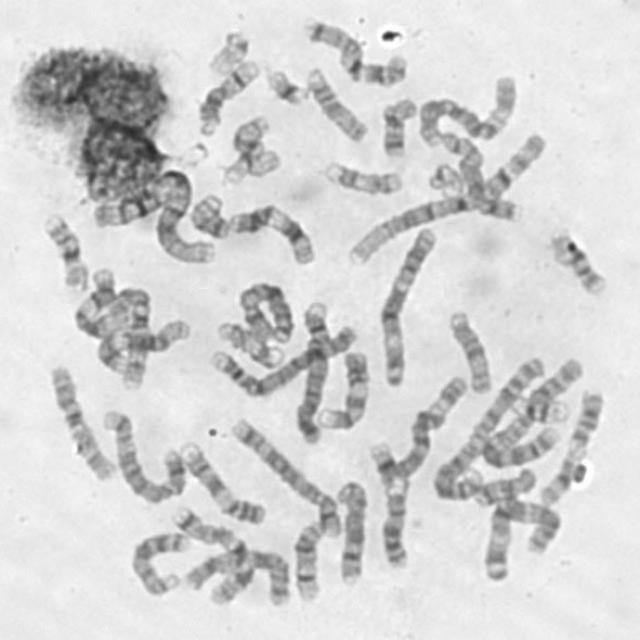A1: (340, 127, 548, 269), (85, 162, 220, 266)
A2: (427, 351, 547, 503), (474, 351, 583, 469)
A3: (374, 219, 440, 389), (477, 491, 564, 584)
B4: (204, 319, 360, 400), (289, 294, 334, 446)
B5: (224, 412, 344, 539), (96, 403, 188, 506)
C10: (43, 358, 118, 483), (102, 282, 164, 393)
C11: (533, 383, 606, 508), (224, 198, 317, 267)
C12: (91, 313, 193, 375), (73, 264, 130, 340)
C6: (382, 370, 470, 484), (412, 69, 518, 150)
C7: (166, 500, 256, 608), (299, 12, 410, 88)
C8: (435, 126, 521, 224), (330, 474, 370, 588)
C9: (174, 436, 268, 526), (314, 344, 373, 432)
D13: (124, 526, 190, 599), (377, 476, 411, 570)
D14: (192, 53, 261, 136), (288, 514, 326, 603)
D15: (299, 61, 370, 144), (443, 303, 495, 396)
E16: (544, 226, 608, 299), (37, 208, 91, 292)
E17: (211, 315, 286, 371), (318, 155, 405, 198)
E18: (468, 462, 538, 508), (376, 91, 418, 161)
F19: (213, 148, 287, 190), (503, 388, 568, 426)
F20: (226, 113, 278, 164), (184, 189, 231, 240)
G21: (260, 62, 310, 108), (364, 436, 401, 490)
G22: (202, 25, 252, 77), (422, 156, 467, 196)
X: (178, 541, 294, 610), (232, 275, 296, 345)
